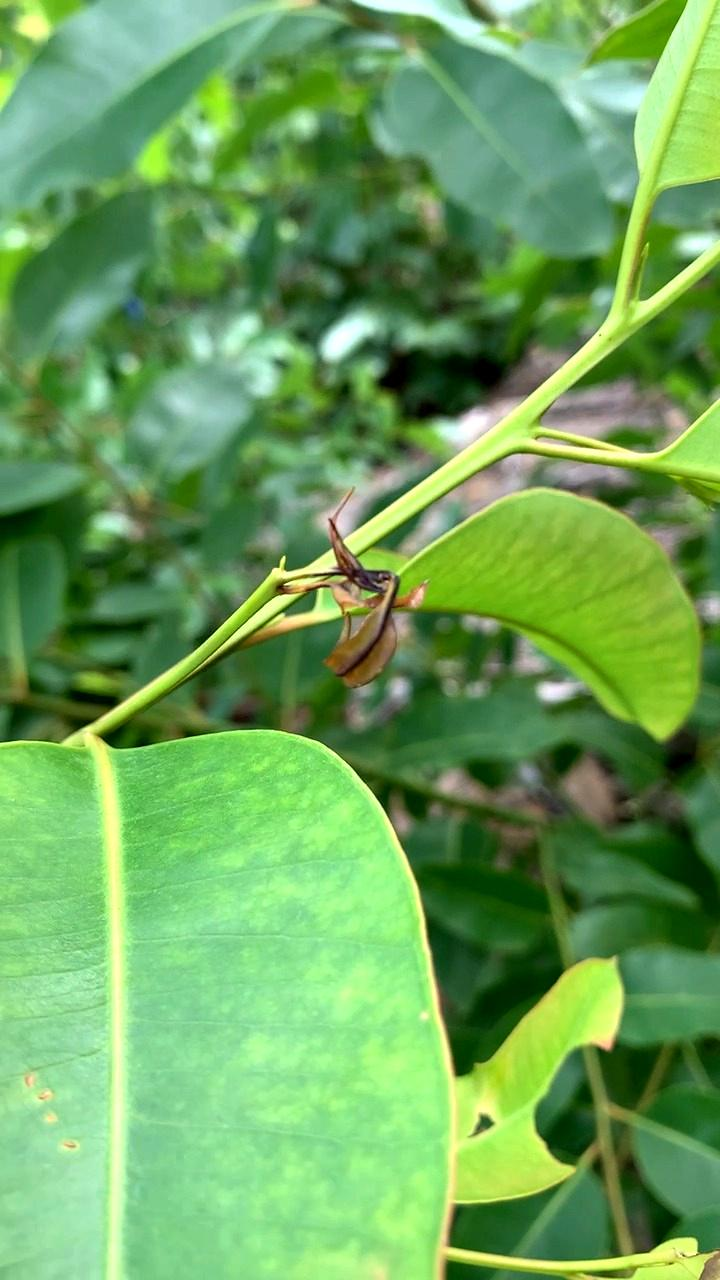Helopeltis-Withered Sprout: (296, 491, 435, 687)
